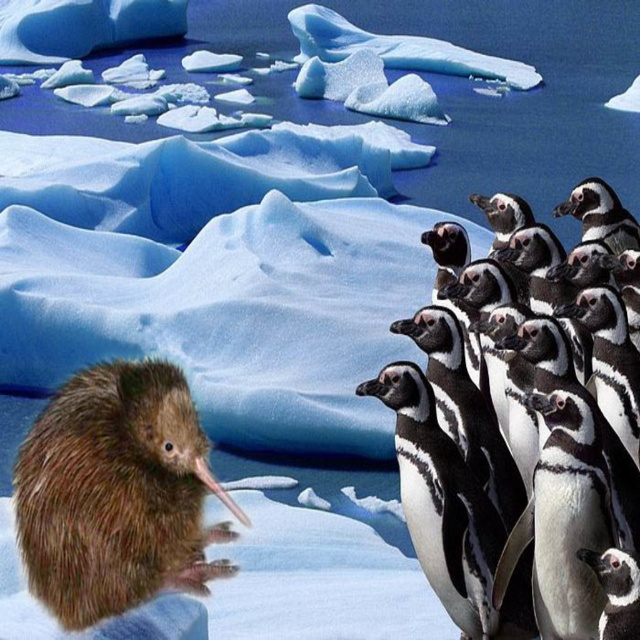Penguin: (353, 171, 639, 639), (364, 350, 501, 618)
